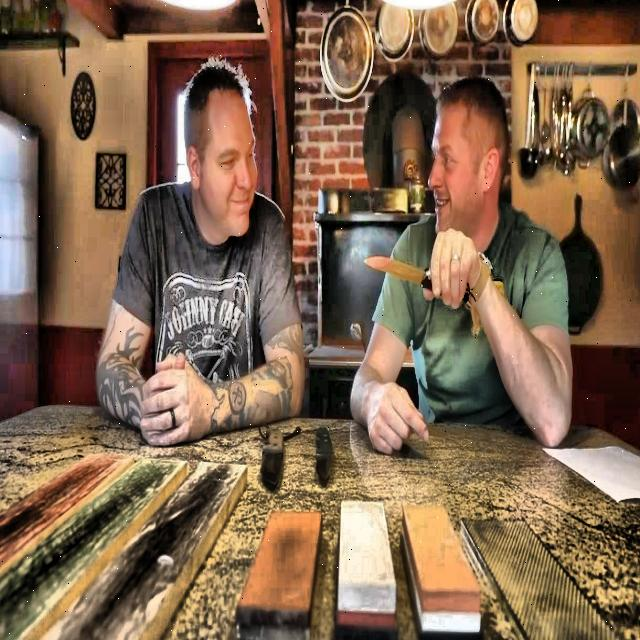knife: (365, 257, 468, 302)
